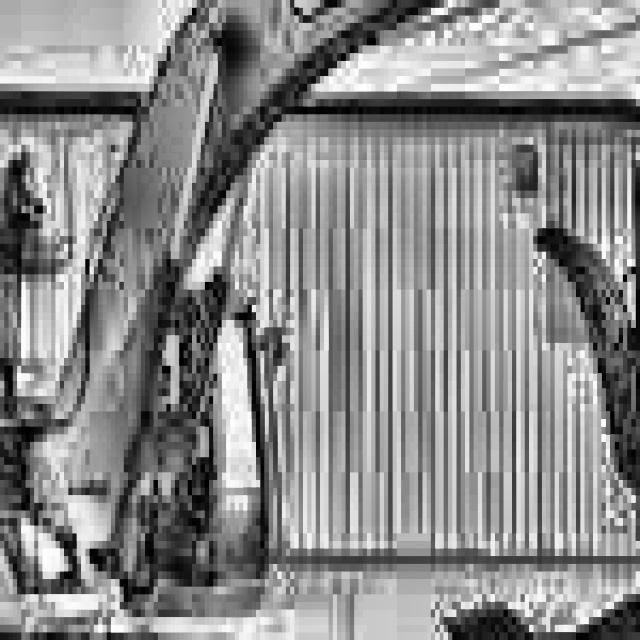excavator: (0, 84, 388, 640)
